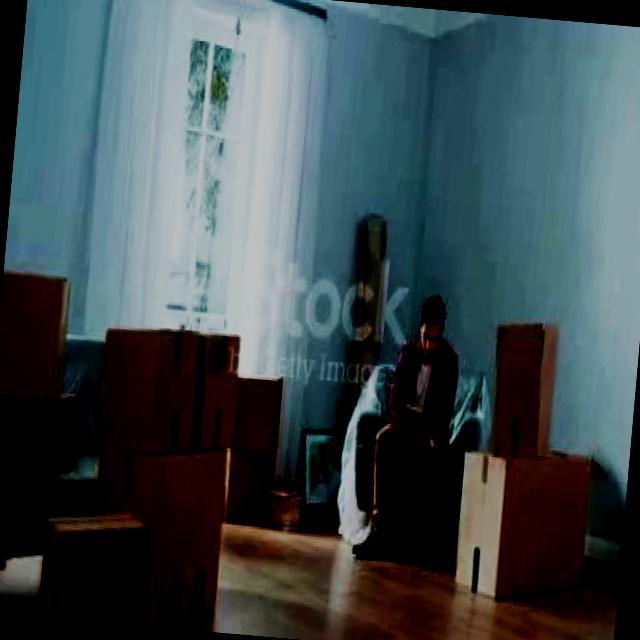Box: (453, 445, 603, 596), (88, 329, 205, 454), (142, 455, 228, 618), (40, 512, 147, 625), (484, 320, 565, 458), (0, 270, 75, 395), (0, 396, 80, 491), (192, 332, 246, 451)
